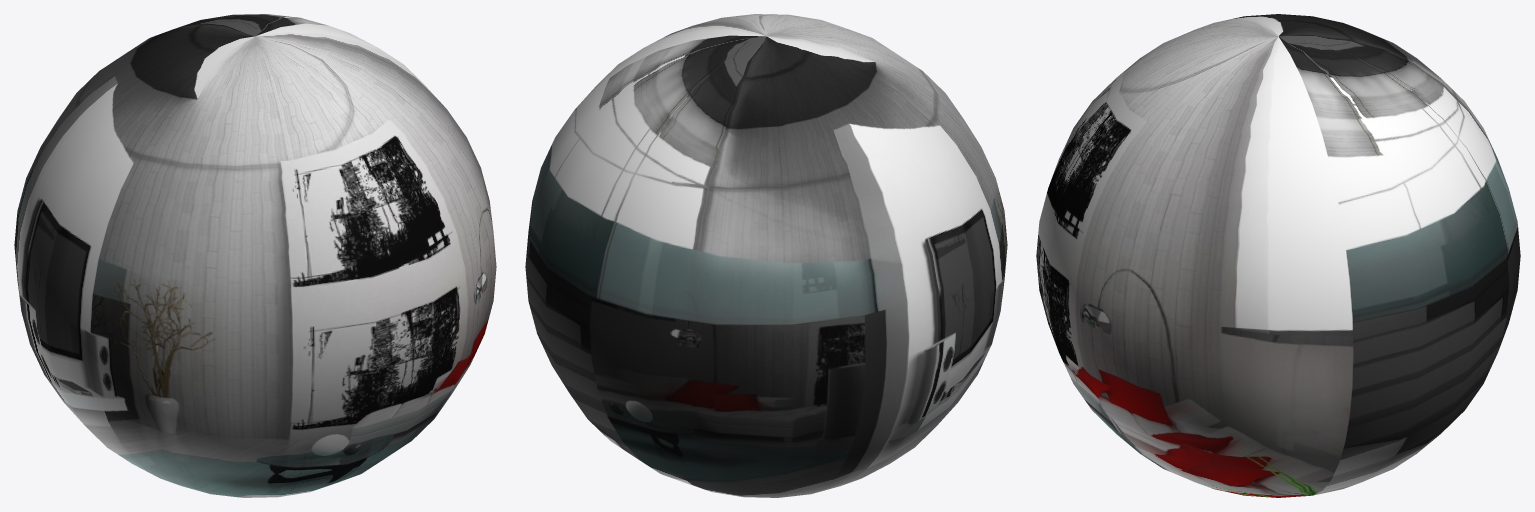
File: GlassofWaterFBX.fbx
3 views of the same model, side by side, from view 1: azimuth 30°, elevation 25°; view 2: azimuth 150°, elevation 25°; view 3: azimuth 270°, elevation 25° (orthographic).
Parts seen in each view (by area): view 1: pSphere1; view 2: pSphere1; view 3: pSphere1.
Boxes of the visible parts, left/top/right/bottom form: pSphere1: left=14, top=14, right=496, bottom=497; pSphere1: left=525, top=14, right=1007, bottom=497; pSphere1: left=1036, top=14, right=1520, bottom=497.
Size of the model in its own units: 151 by 151 by 151.
Materials: 3 (2 with a texture image).
